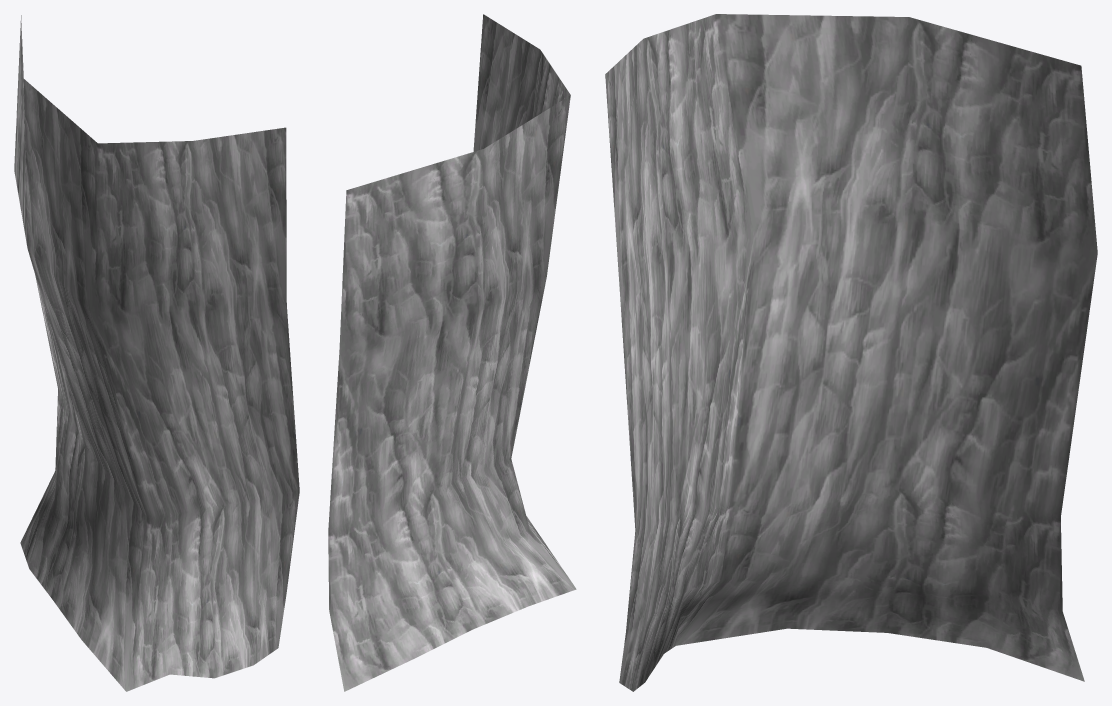
Rendered from SWORDLIGHT20_PS-AREA03_210.fbx.
3 views of the same model, side by side, from view 1: azimuth 30°, elevation 25°; view 2: azimuth 150°, elevation 25°; view 3: azimuth 270°, elevation 25° (orthographic). The views are drawn at different scales.
Parts seen in each view (by area): view 1: SWORDLIGHT20_PS-AREA03_210; view 2: SWORDLIGHT20_PS-AREA03_210; view 3: SWORDLIGHT20_PS-AREA03_210.
Part boxes in pixels (bbox=[...]): SWORDLIGHT20_PS-AREA03_210: bbox=[14, 15, 299, 691]; SWORDLIGHT20_PS-AREA03_210: bbox=[328, 14, 576, 691]; SWORDLIGHT20_PS-AREA03_210: bbox=[605, 14, 1097, 691].
Bounding box in the file's own units: 46350 × 147218 × 101913.
Materials: 1 (1 with a texture image).
